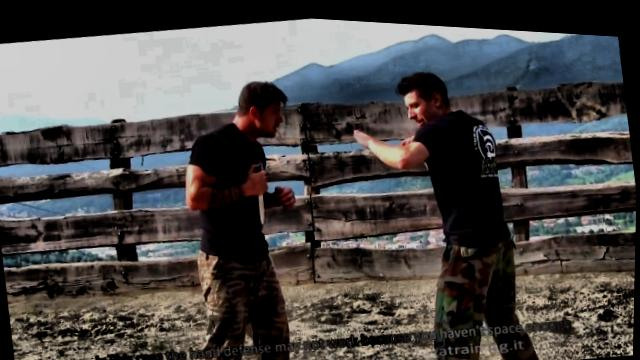knife: (240, 152, 276, 226)
